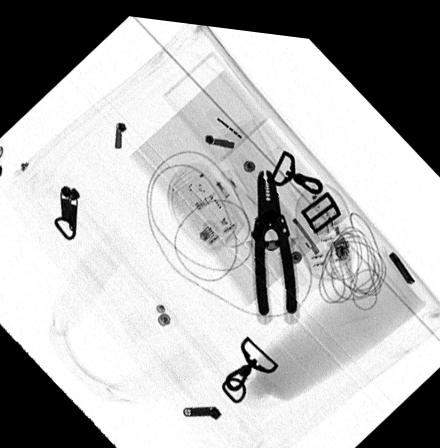Pliers: (253, 163, 297, 309)
